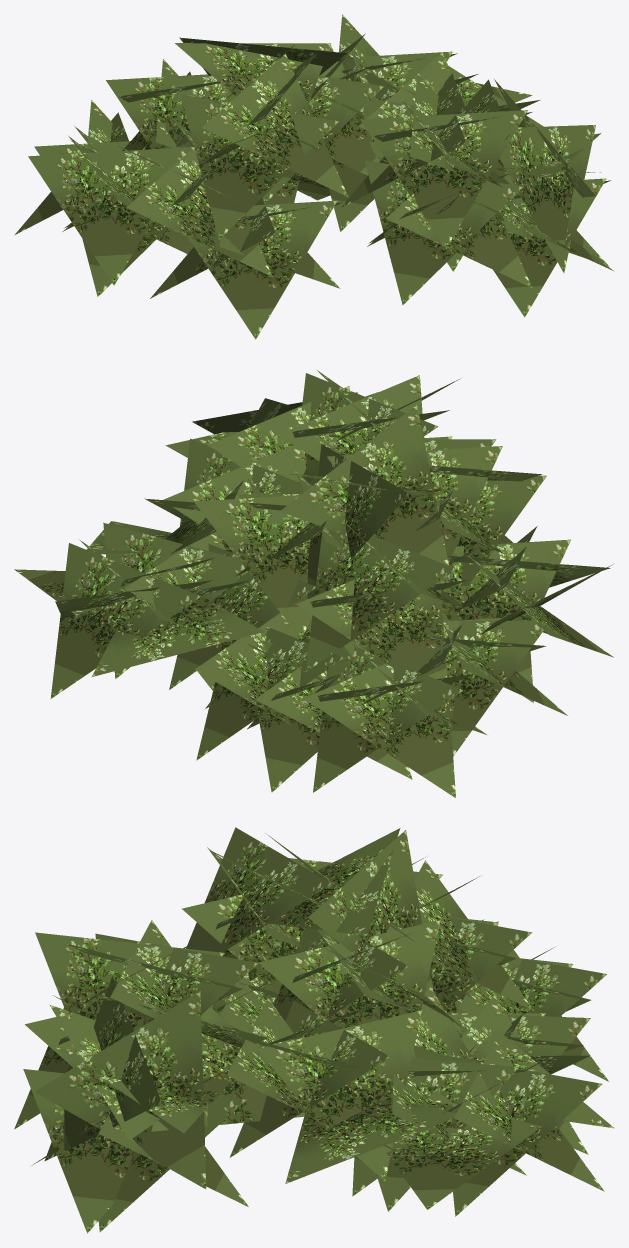
The model's file is tree_baobab_top_b.dae.
3 renders of one model, top to bottom at view 1: azimuth 30°, elevation 25°; view 2: azimuth 150°, elevation 25°; view 3: azimuth 270°, elevation 25°, orthographic. The views are drawn at different scales.
Visible parts, largest first — view 1: canopy158-Pivot; view 2: canopy158-Pivot; view 3: canopy158-Pivot.
Boxes of the visible parts, bbox=[...] form: canopy158-Pivot: bbox=[15, 14, 614, 339]; canopy158-Pivot: bbox=[14, 369, 613, 797]; canopy158-Pivot: bbox=[14, 827, 614, 1233].
Bounding box in the file's own units: 21.39 × 19.14 × 10.48.
